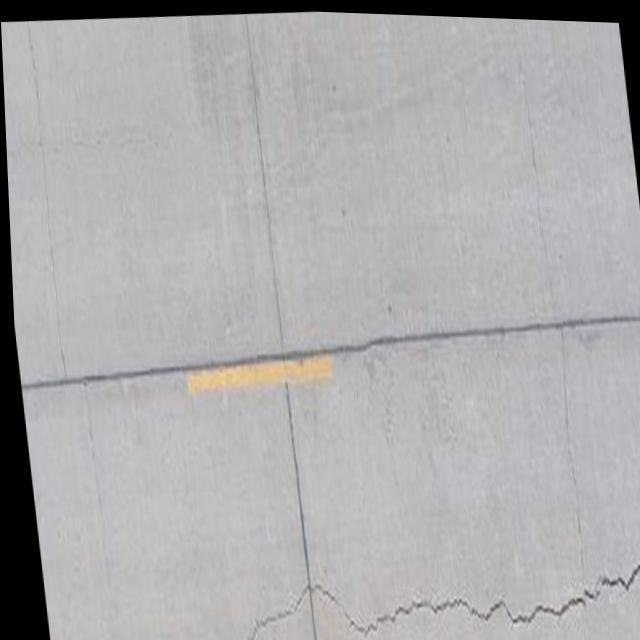Crack: (217, 495, 640, 640)
